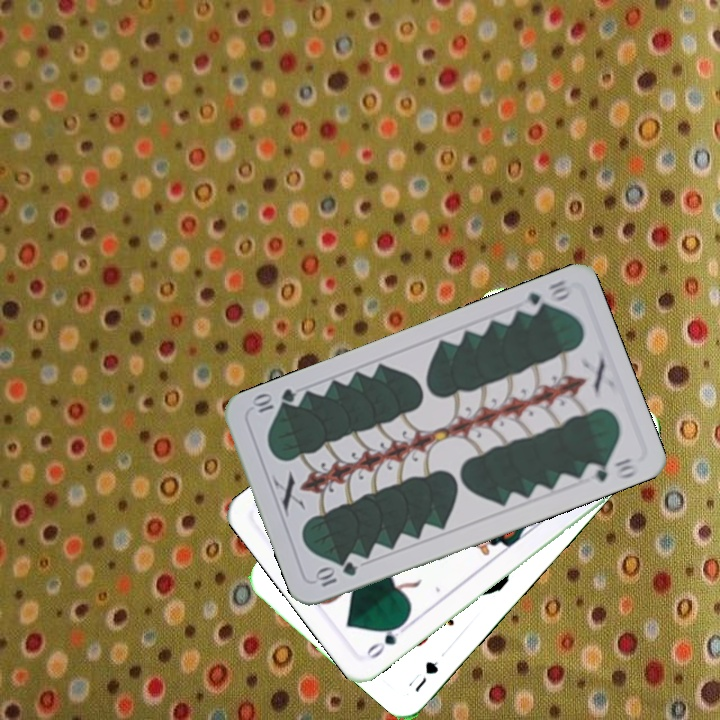G10: (515, 276, 573, 318), (311, 557, 360, 590)
GO: (362, 616, 413, 662)
GU: (403, 657, 442, 695)
